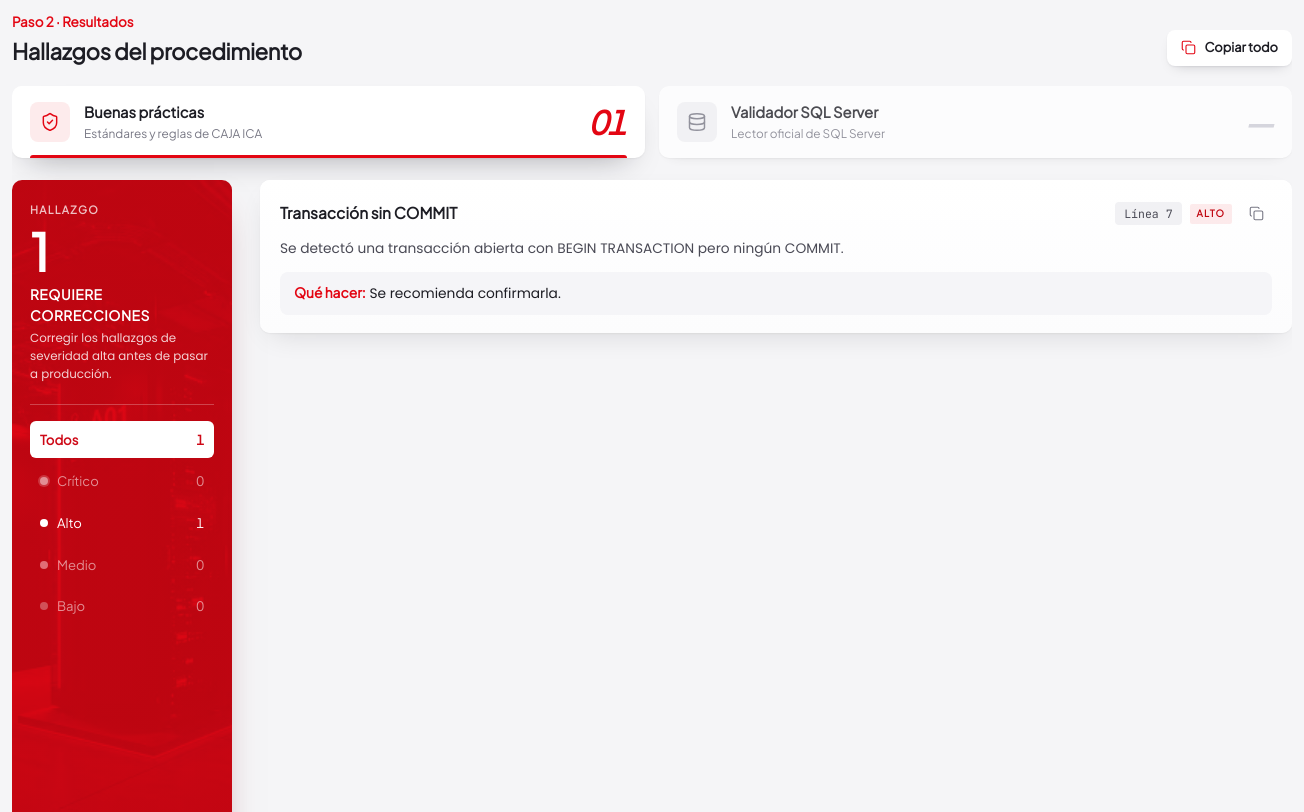
PanelHallazgos · pestañas «Buenas prácticas» y «Validador SQL Server» › si esta PC no tiene el validador, lo dice sin afectar las buenas prácticas
What coordinates should you click on to do the following:
click the tab "Validador SQL Server Lector oficial de SQL Server —"
I would click on:
 (697, 122)
Its box is [659,86,1292,158].
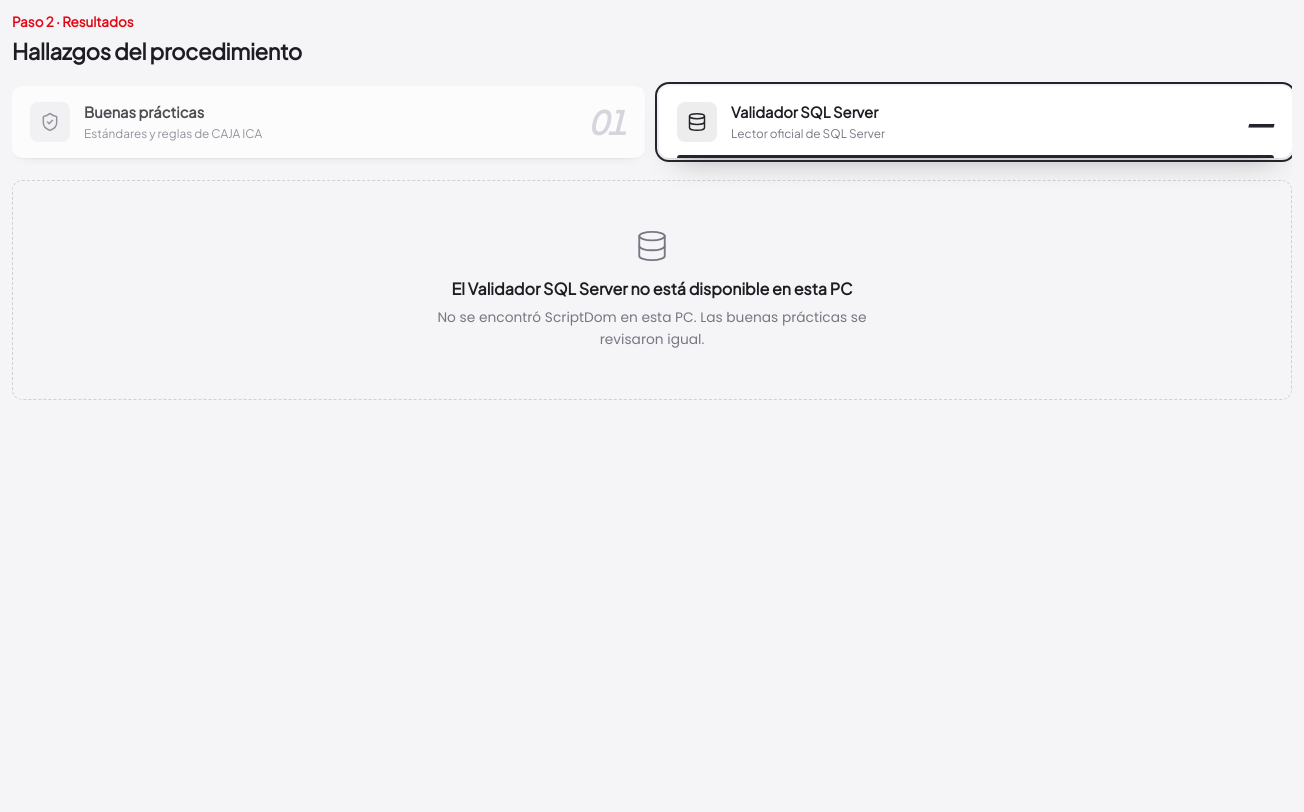
Check: the text "El Validador SQL Server no está disponible en esta PC" is shown, box [452,276,852,300]
Check: the text "No se encontró ScriptDom en esta PC. Las buenas prácticas se revisaron igual." is shown, box [422,306,882,350]
